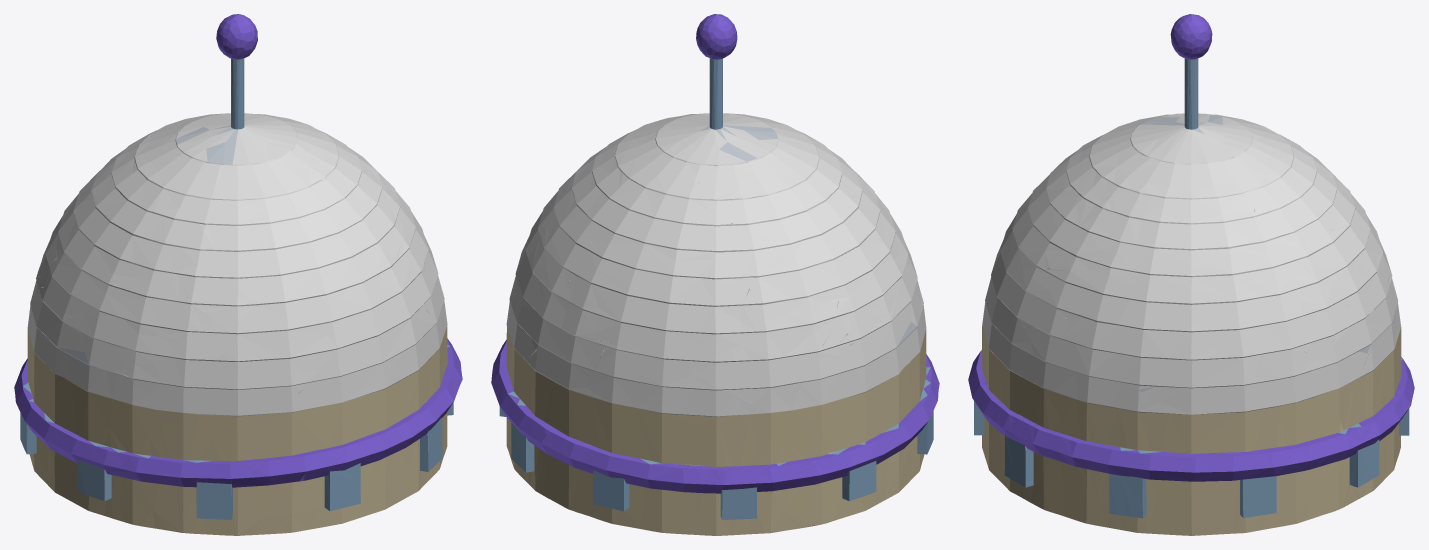
Rendered from hall-tripo-A.glb.
3 renders of one model, left to right at view 1: azimuth 30°, elevation 25°; view 2: azimuth 150°, elevation 25°; view 3: azimuth 270°, elevation 25°, orthographic.
Visible parts, largest first — view 1: hall; view 2: hall; view 3: hall.
Part boxes in pixels (x1=…): hall: x1=14, y1=14, x2=462, y2=535; hall: x1=491, y1=14, x2=939, y2=535; hall: x1=968, y1=14, x2=1414, y2=535.
Size of the model in its own units: 1.98 by 2.1 by 1.96.
